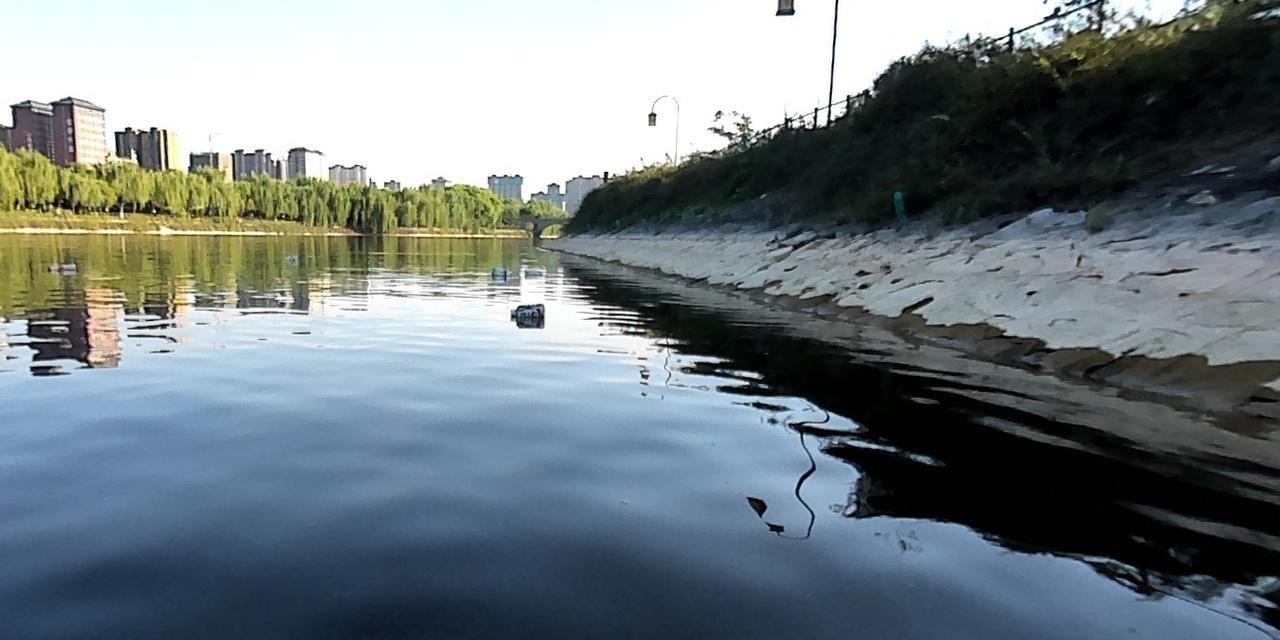bottle: (506, 300, 547, 319), (44, 259, 81, 273), (488, 263, 514, 277), (520, 264, 546, 276)
